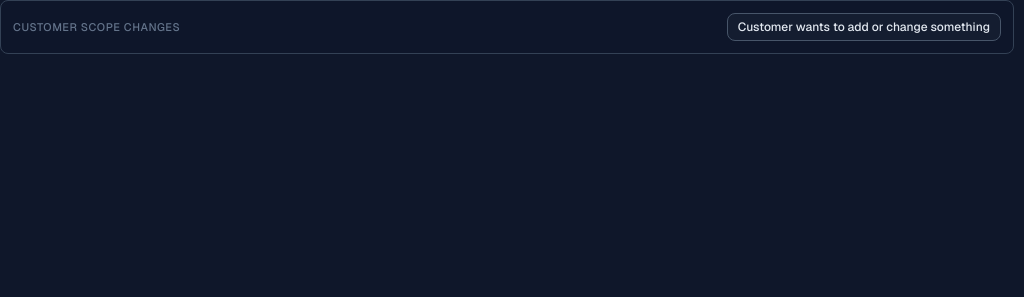
Test: ScopeChangeCards (§6 [R3]) › Sales records the request only with what and the customer evidence
The width and height of the screenshot is (1024, 297).
Later steps or results of the test are not shown.
Click the button with test id "scope-request-open".
click(864, 27)  # box [727,13,1001,41]
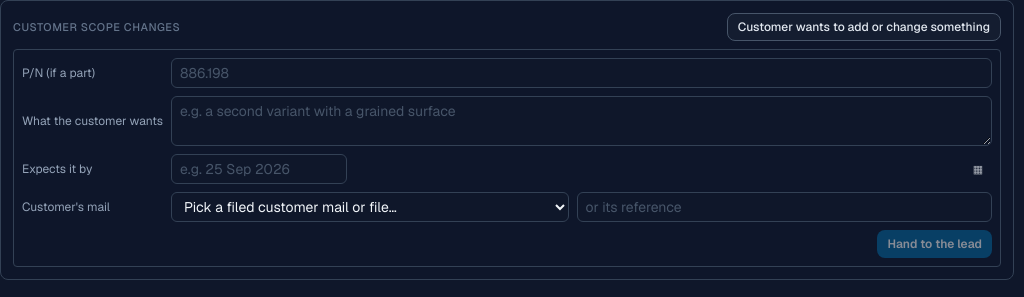
Type "Second variant grained" into the text box with test id "scope-what".
click(582, 121); type("Second variant grained")  # box [171,96,992,146]
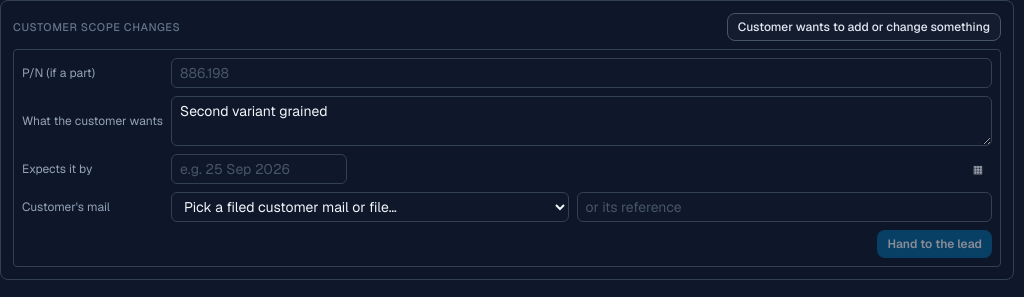
Expected: the button with test id "scope-request-save" is disabled, [877,230,992,258]
Type "ok" into the field with test id "scope-ref".
click(784, 207); type("ok")  # box [576,192,992,222]
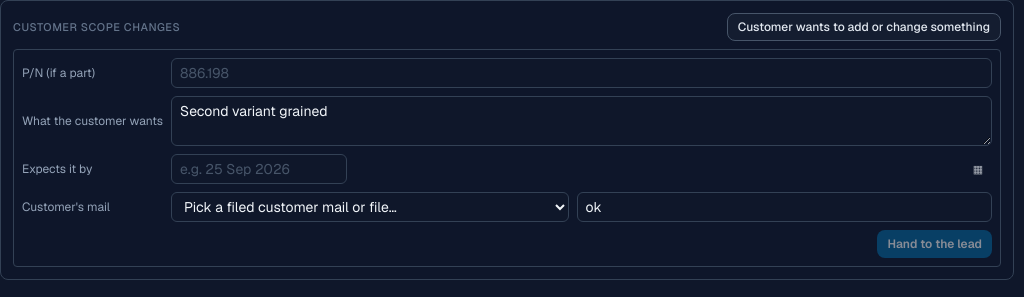
Expected: the button with test id "scope-request-save" is disabled, [877,230,992,258]
